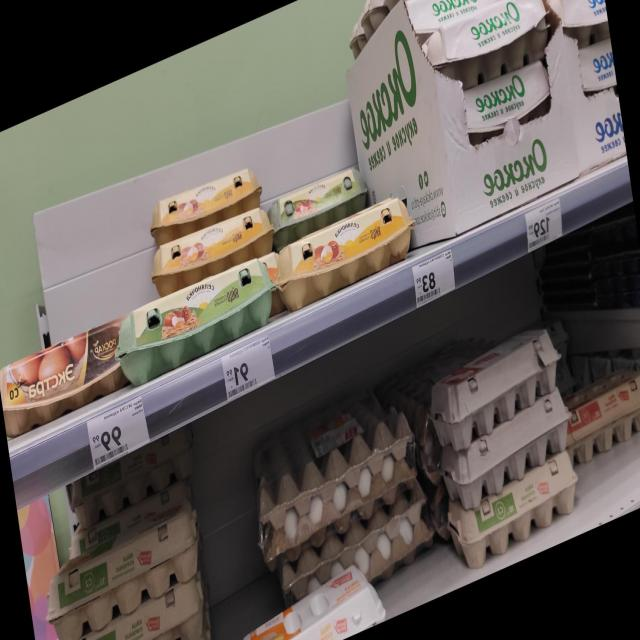organic waste: (110, 251, 277, 399), (40, 496, 206, 639), (270, 180, 418, 317), (446, 445, 584, 578), (0, 307, 129, 448), (60, 434, 193, 550), (222, 553, 390, 639), (147, 198, 275, 303), (425, 0, 555, 100), (143, 153, 266, 254), (267, 152, 372, 252), (48, 577, 212, 639), (460, 52, 555, 146), (560, 356, 640, 466), (406, 0, 502, 45), (552, 0, 610, 54), (576, 36, 617, 102)
